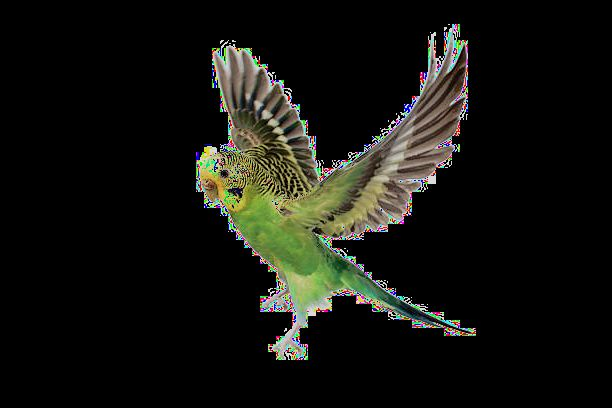Bird: (184, 18, 479, 359)
